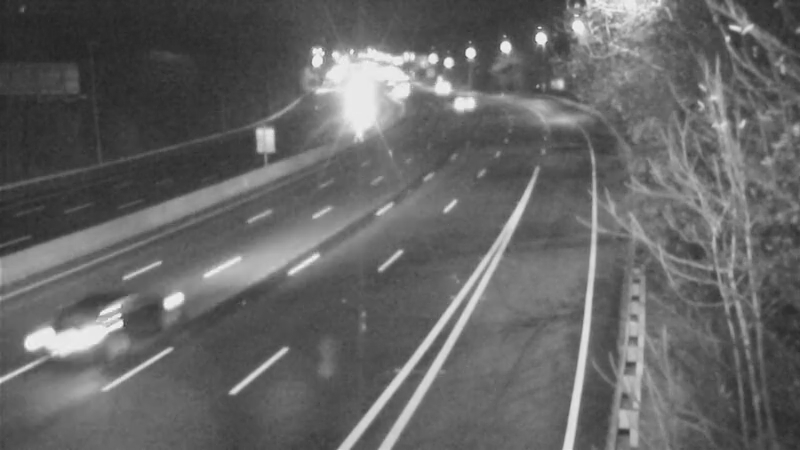vehicle: (26, 275, 136, 385), (413, 62, 463, 112), (377, 66, 427, 116), (440, 79, 490, 129)
